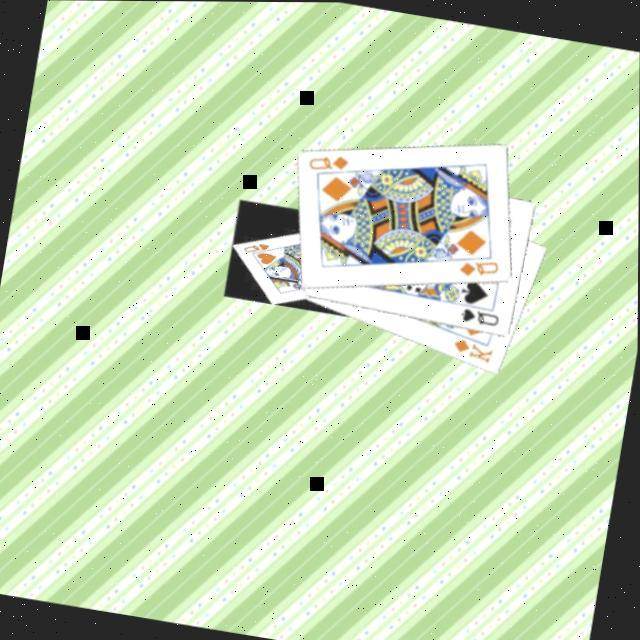KD: (449, 332, 499, 365)
QD: (457, 250, 504, 282), (307, 146, 354, 177)
QS: (458, 302, 505, 329)
